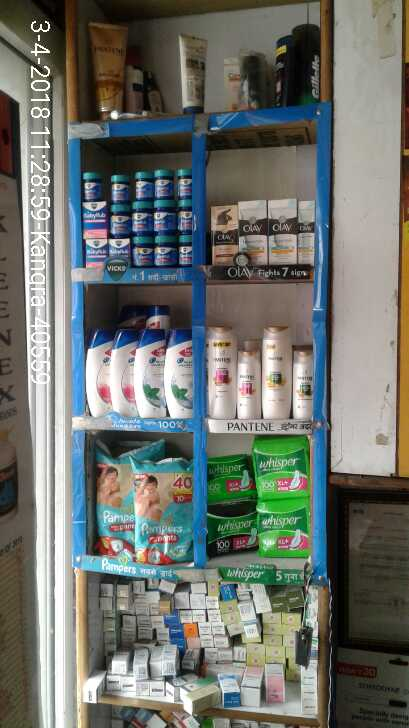vicks: (81, 169, 191, 270)
